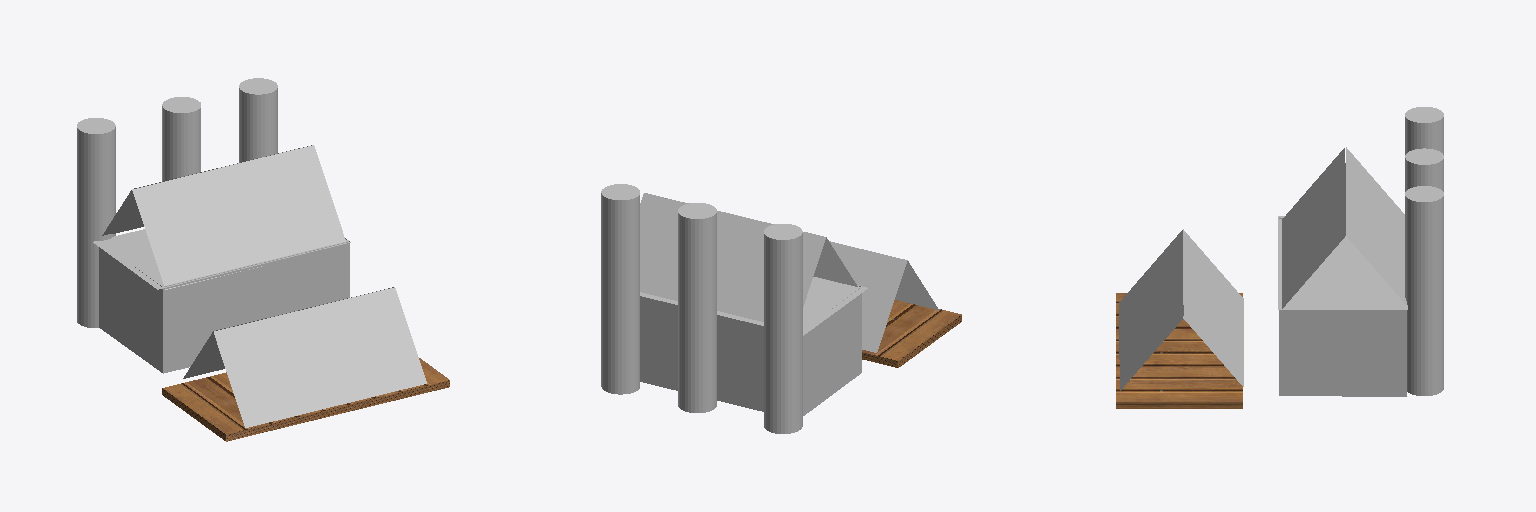
3 views of the same model, side by side, from view 1: azimuth 30°, elevation 25°; view 2: azimuth 150°, elevation 25°; view 3: azimuth 270°, elevation 25° (orthographic).
Parts seen in each view (by area): view 1: Plane, Plane.002_Plane.003, Cube.004, Cylinder.002_Cylinder.003, Cube_Cube.005, Cylinder.001_Cylinder.002, Cylinder, Plane.001; view 2: Cube.004, Plane, Cylinder, Cylinder.001_Cylinder.002, Cylinder.002_Cylinder.003, Plane.002_Plane.003, Cube_Cube.005, Plane.001; view 3: Plane.002_Plane.003, Cube.004, Plane, Cylinder, Cube_Cube.005, Plane.001, Cylinder.002_Cylinder.003, Cylinder.001_Cylinder.002.
Boxes of the visible parts, x1,y1,x2,y2 form: Plane: [102, 145, 345, 289]; Plane.002_Plane.003: [183, 287, 426, 427]; Cube.004: [99, 238, 349, 373]; Cylinder.002_Cylinder.003: [77, 118, 115, 327]; Cube_Cube.005: [162, 358, 449, 441]; Cylinder.001_Cylinder.002: [162, 97, 200, 181]; Cylinder: [239, 78, 277, 162]; Plane.001: [93, 229, 350, 289]; Cube.004: [640, 286, 861, 415]; Plane: [640, 193, 857, 321]; Cylinder: [601, 184, 639, 394]; Cylinder.001_Cylinder.002: [678, 203, 716, 412]; Cylinder.002_Cylinder.003: [764, 224, 802, 433]; Plane.002_Plane.003: [829, 241, 939, 352]; Cube_Cube.005: [862, 300, 961, 367]; Plane.001: [640, 277, 867, 335]; Plane.002_Plane.003: [1119, 229, 1243, 390]; Cube.004: [1279, 218, 1406, 396]; Plane: [1282, 147, 1406, 308]; Cylinder: [1405, 186, 1443, 395]; Cube_Cube.005: [1116, 293, 1242, 408]; Plane.001: [1278, 216, 1407, 309]; Cylinder.002_Cylinder.003: [1405, 107, 1443, 154]; Cylinder.001_Cylinder.002: [1405, 148, 1443, 191].
Bounding box in the file's own units: 7.98 × 6.71 × 10.13.
10 materials, 1 textured.